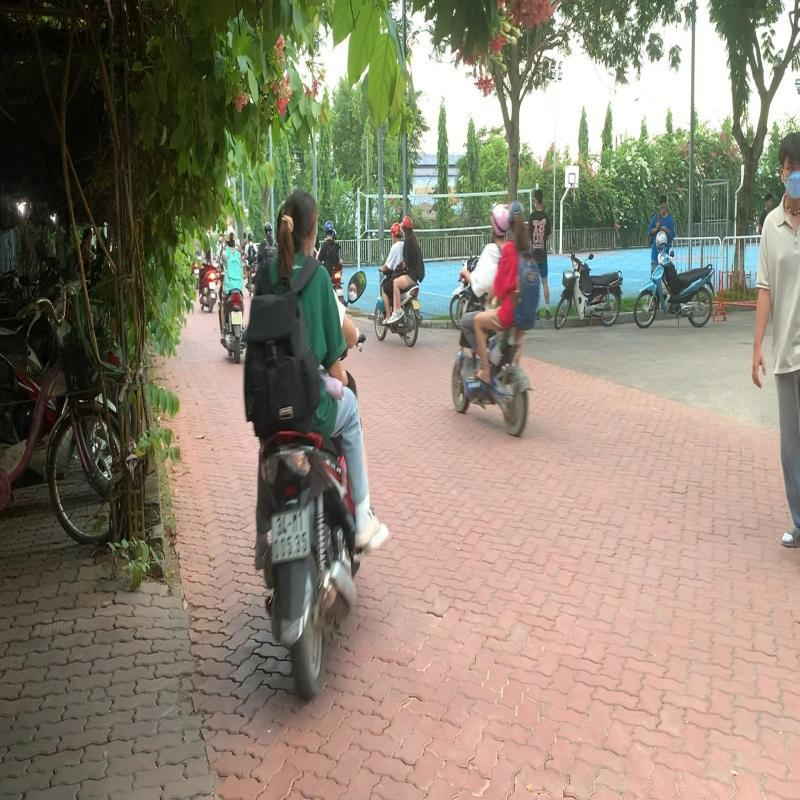nohelmet: (276, 184, 322, 260)
